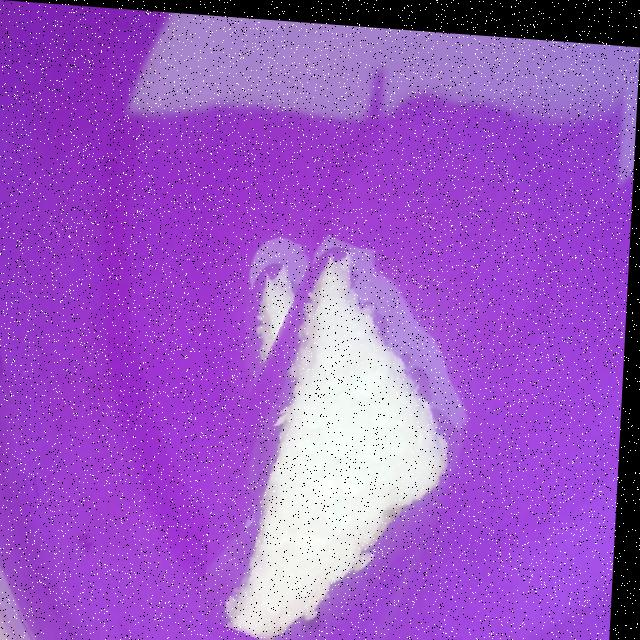thermocoal: (209, 235, 505, 640)
